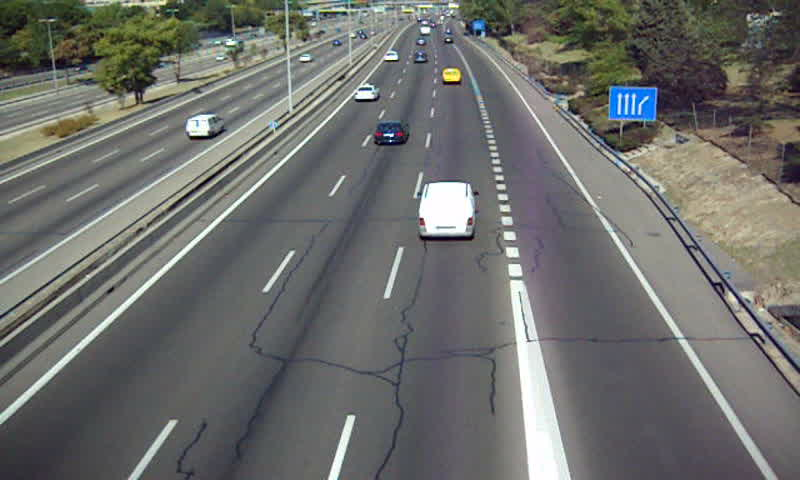car: (372, 120, 409, 144), (354, 85, 377, 102), (413, 50, 428, 65), (382, 50, 398, 62)
van: (418, 182, 476, 240), (441, 68, 462, 84)
